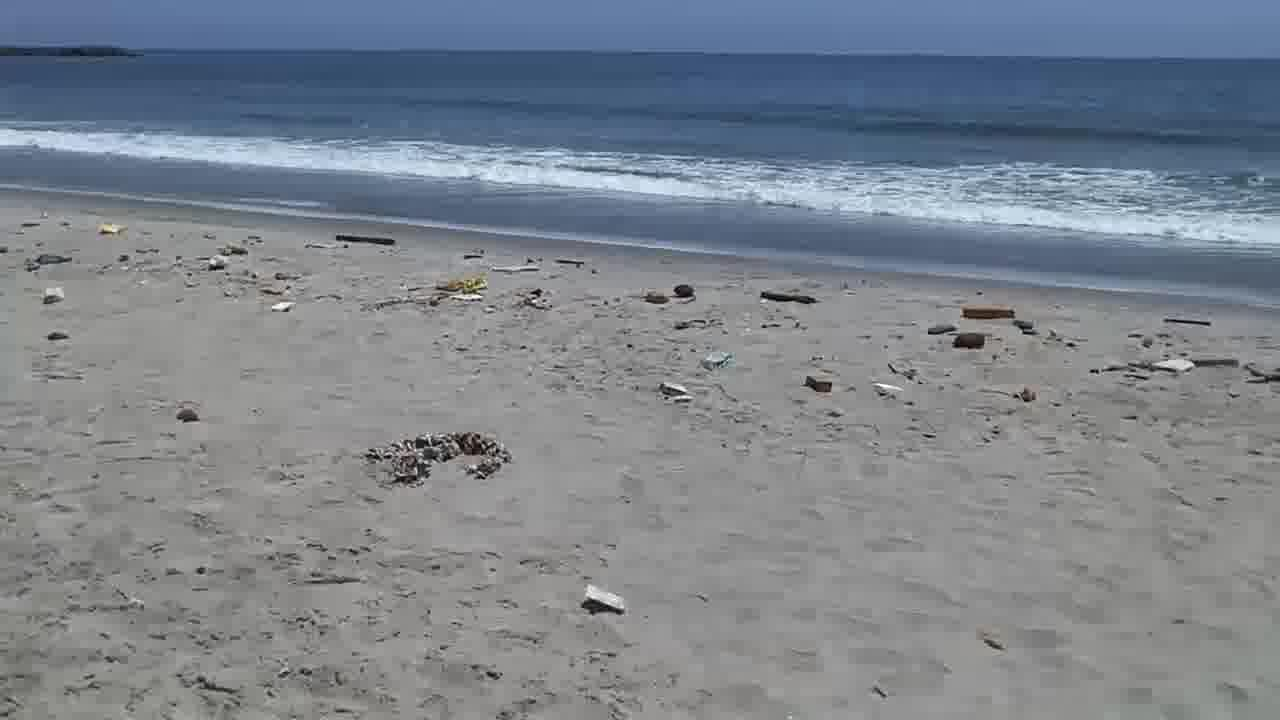obj: (364, 431, 514, 488), (582, 585, 626, 617), (333, 234, 400, 251), (656, 382, 696, 408), (760, 292, 818, 306), (962, 306, 1019, 320), (447, 276, 490, 292), (1148, 359, 1196, 373), (698, 352, 734, 369), (40, 284, 64, 306), (806, 374, 832, 393), (952, 334, 984, 348), (870, 382, 904, 395), (641, 291, 672, 305), (178, 408, 198, 424), (208, 255, 228, 271), (270, 300, 296, 312), (448, 292, 482, 301), (674, 284, 694, 298), (926, 324, 954, 334), (45, 331, 68, 341), (104, 224, 125, 233)
sand/background: (0, 0, 1279, 343)
